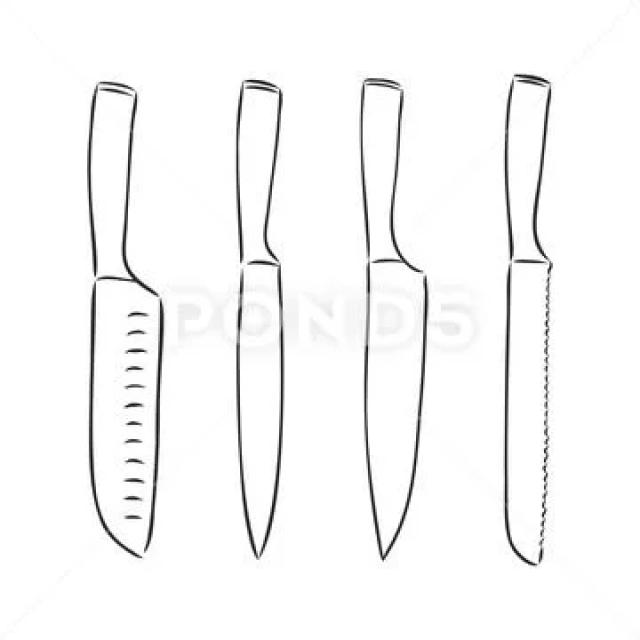Knife: (85, 80, 162, 556), (357, 76, 427, 560), (501, 71, 551, 564), (233, 78, 284, 558)
